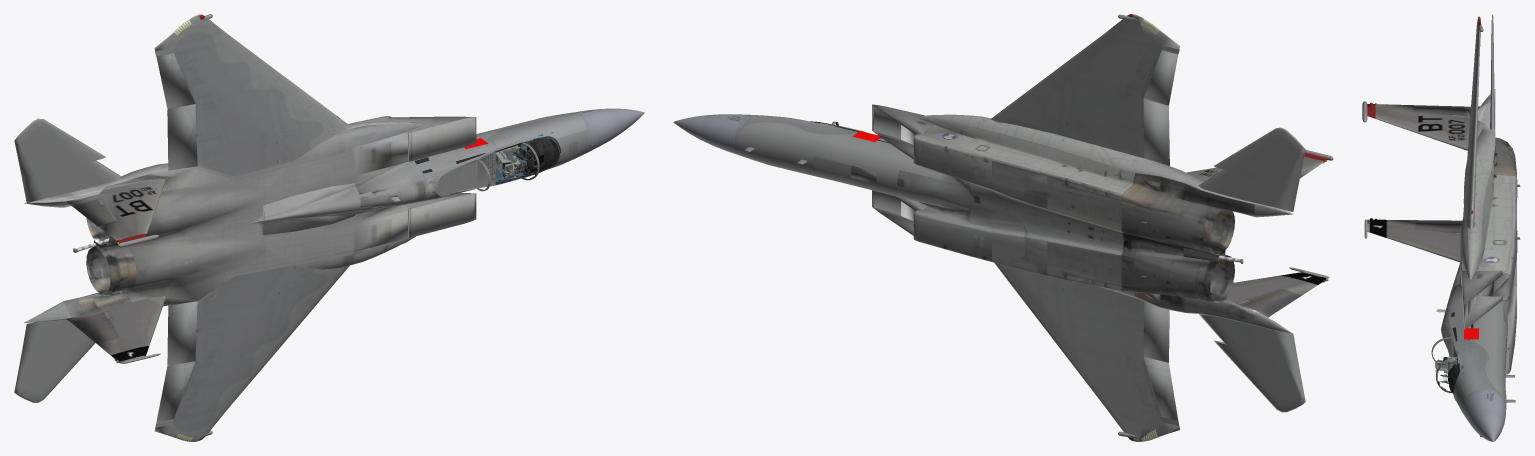
File: f15c-cockpit.glb
The picture shows the model from 3 angles, left to right: view 1: azimuth 30°, elevation 25°; view 2: azimuth 150°, elevation 25°; view 3: azimuth 270°, elevation 25°; orthographic projection. The views are drawn at different scales.
Bounding box in the file's own units: 19.51 × 12.6 × 4.35.
Materials: 38 (31 with a texture image).
